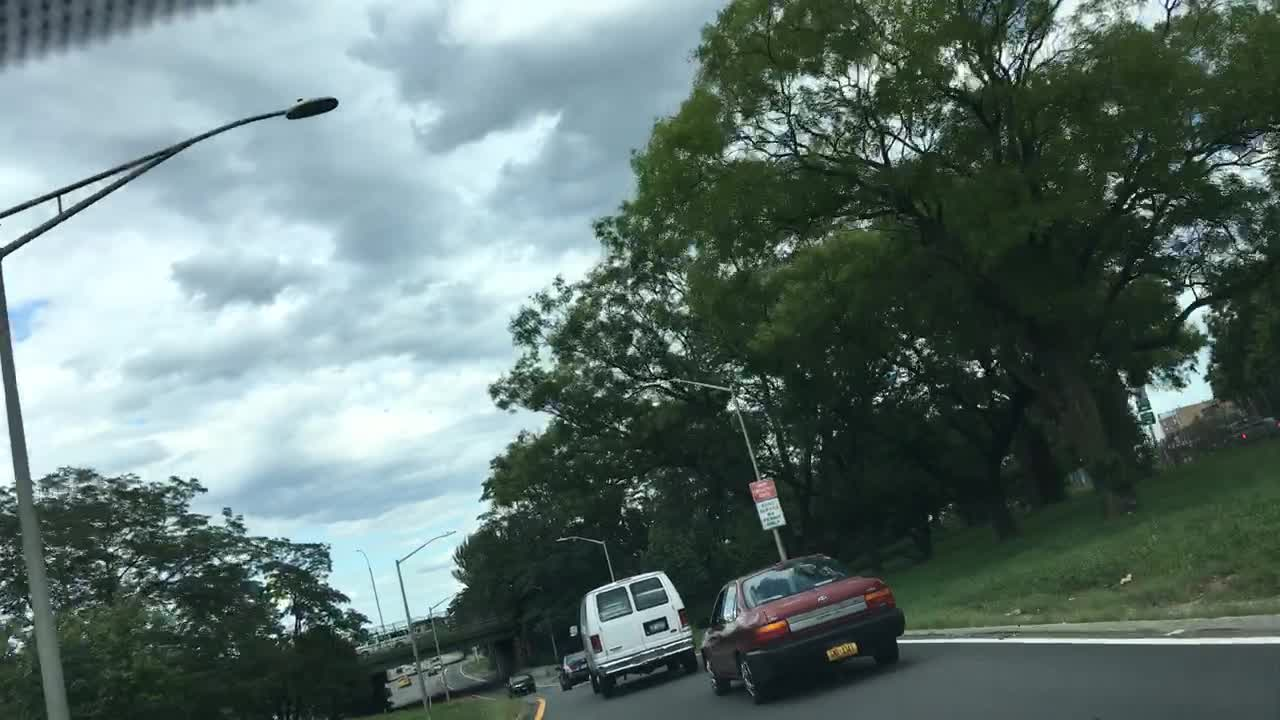car: (698, 550, 901, 705), (579, 569, 698, 697), (354, 629, 412, 657), (1232, 415, 1279, 444), (550, 655, 585, 690), (503, 671, 536, 698), (412, 616, 447, 635), (396, 673, 411, 687), (426, 666, 436, 678), (430, 662, 443, 670)
traffic sign: (756, 496, 786, 530), (746, 476, 776, 501)
